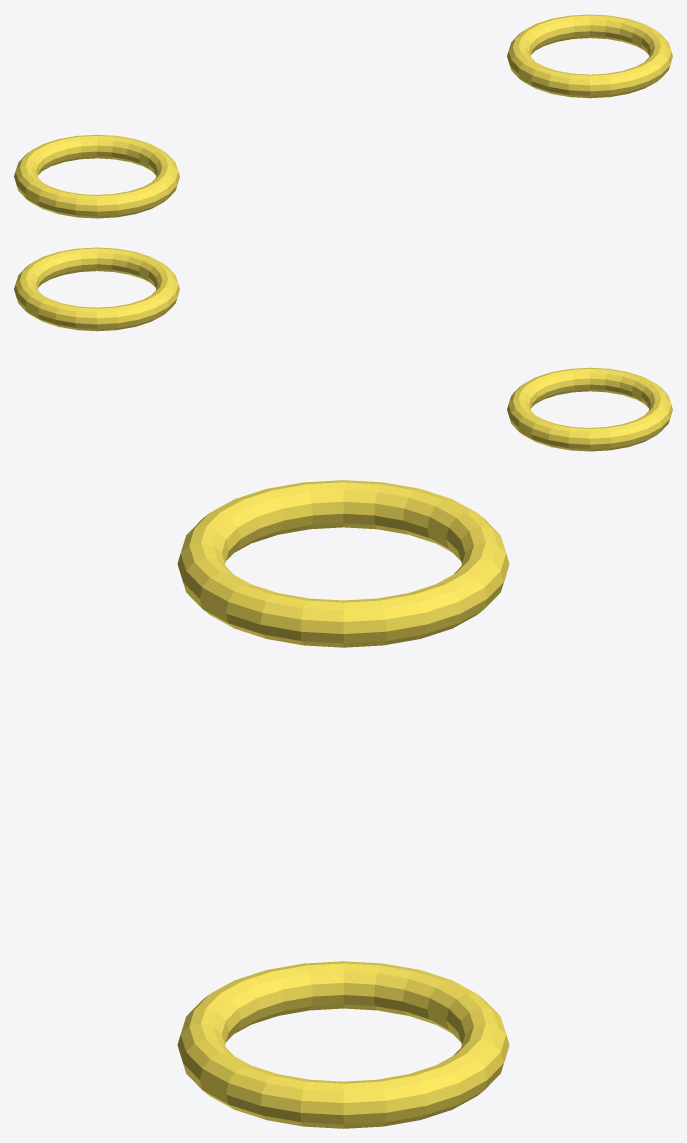
The model's file is female_gold_hoops.glb.
3 views of the same model, one above another, from view 1: azimuth 30°, elevation 25°; view 2: azimuth 150°, elevation 25°; view 3: azimuth 270°, elevation 25° (orthographic). The views are drawn at different scales.
Parts seen in each view (by area): view 1: GoldHoops; view 2: GoldHoops; view 3: GoldHoops.
Part boxes in pixels (x1=…): GoldHoops: x1=14, y1=14, x2=672, y2=218; GoldHoops: x1=14, y1=247, x2=672, y2=451; GoldHoops: x1=177, y1=480, x2=509, y2=1128.
Size of the model in its own units: 0.31 by 0.01 by 0.07.
